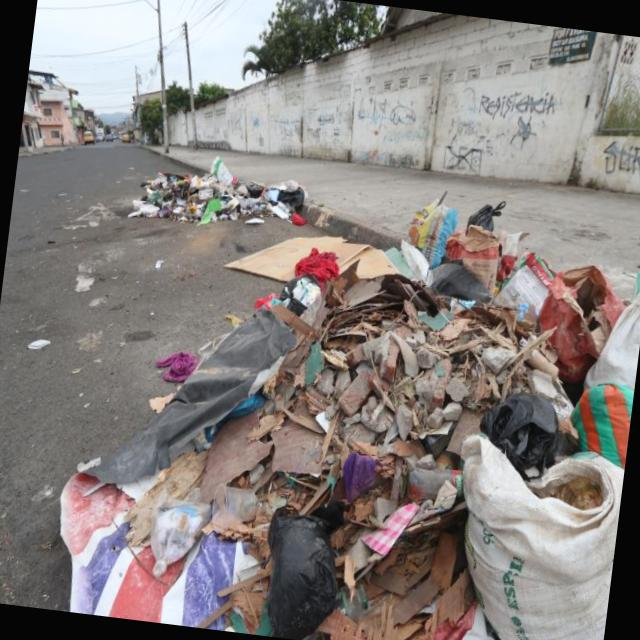garbage: (56, 154, 640, 640)
